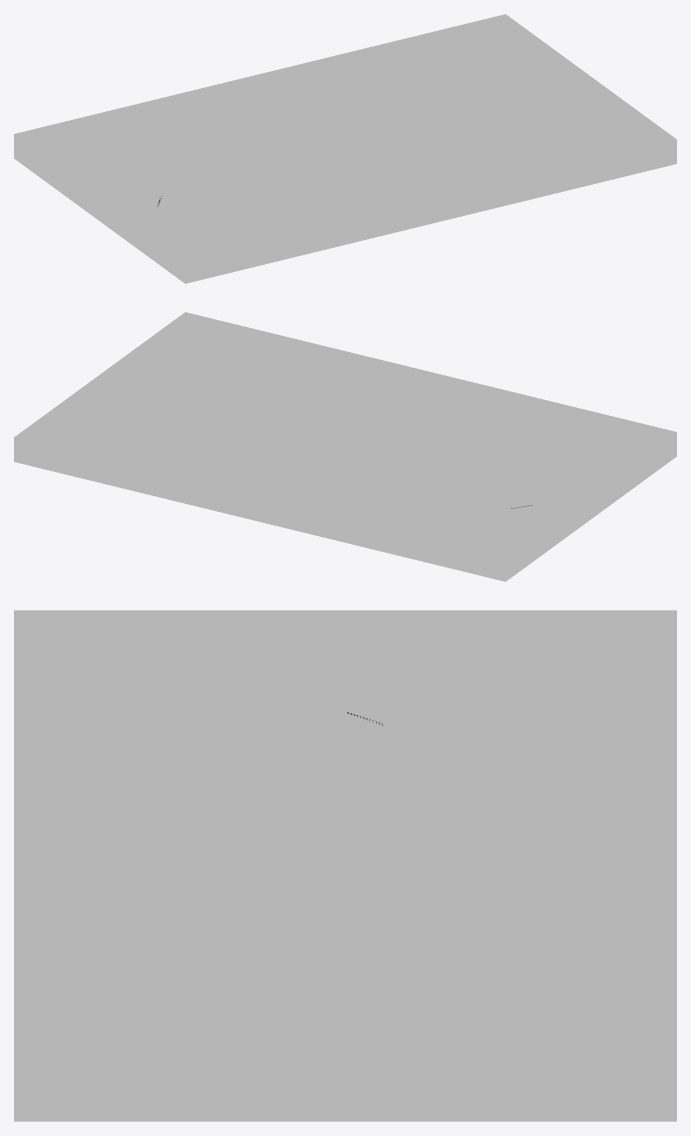
File: 2022_october_open_ccw.dae
3 renders of one model, top to bottom at view 1: azimuth 30°, elevation 25°; view 2: azimuth 150°, elevation 25°; view 3: azimuth 270°, elevation 25°, orthographic. The views are drawn at different scales.
Visible parts, largest first — view 1: field, wall, road, ol, il, cl; view 2: field, wall, road, ol, il, cl; view 3: field, wall, road, ol, il, cl.
Boxes of the visible parts, x1=… form: field: x1=39, y1=38, x2=651, y2=259; wall: x1=14, y1=14, x2=676, y2=283; road: x1=63, y1=81, x2=617, y2=206; ol: x1=88, y1=92, x2=595, y2=196; il: x1=61, y1=81, x2=619, y2=207; cl: x1=75, y1=87, x2=606, y2=201; field: x1=39, y1=336, x2=651, y2=550; wall: x1=14, y1=312, x2=676, y2=581; road: x1=100, y1=358, x2=542, y2=556; ol: x1=125, y1=368, x2=517, y2=551; il: x1=98, y1=357, x2=544, y2=557; cl: x1=112, y1=363, x2=530, y2=553; field: x1=14, y1=657, x2=676, y2=1074; wall: x1=14, y1=610, x2=676, y2=1121; road: x1=58, y1=676, x2=632, y2=1074; ol: x1=105, y1=696, x2=585, y2=1074; il: x1=54, y1=674, x2=636, y2=1074; cl: x1=81, y1=685, x2=609, y2=1074.
Bounding box in the file's own units: 21.04 × 12.7 × 1.
